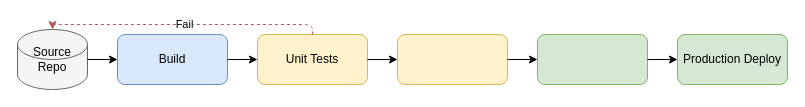
Image size: 805x107. Some labels were removed from this diagram. The shapes that lost their labels are listed below. From the top down, each one's centre as x and y in pixels, then its label:
the point at 452,59: Integration Tests
the point at 592,59: Staging Deploy
